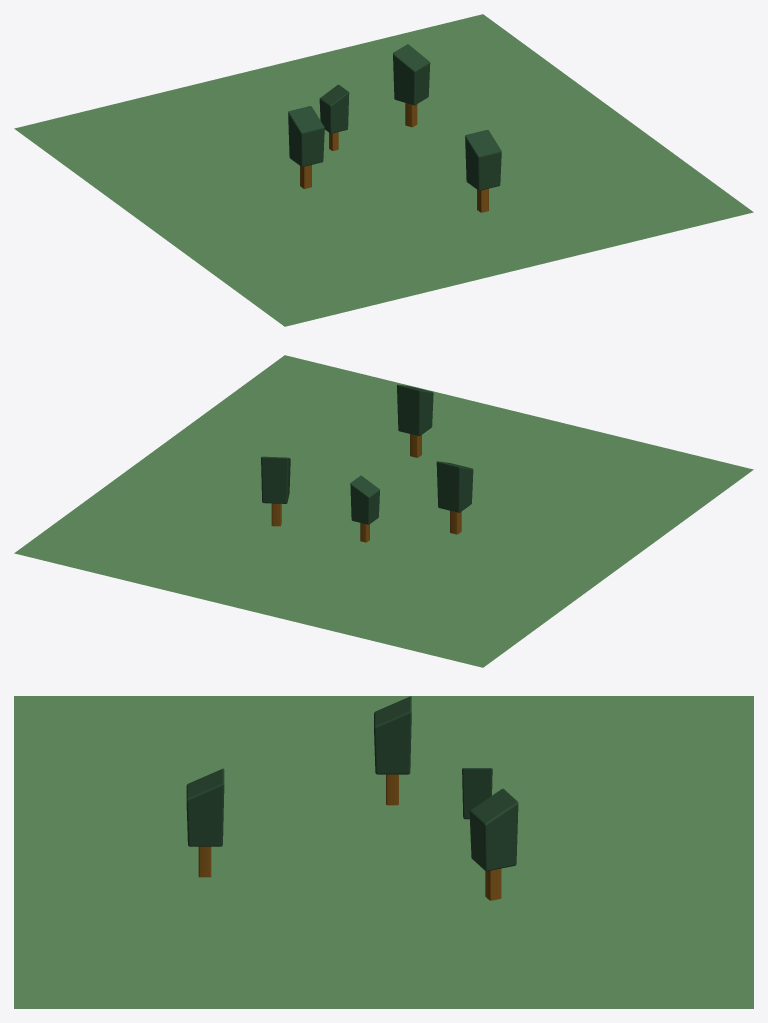
Rendered from threes_shadow.glb.
3 views of the same model, one above another, from view 1: azimuth 30°, elevation 25°; view 2: azimuth 150°, elevation 25°; view 3: azimuth 270°, elevation 25° (orthographic). The views are drawn at different scales.
Parts seen in each view (by area): view 1: Floor, Plane.002, Plane.005, Plane.007, Plane.003; view 2: Floor, Plane.005, Plane.002, Plane.007, Plane.003; view 3: Floor, Plane.007, Plane.005, Plane.002, Plane.003.
Boxes of the visible parts, box(x1,y1,x2,y2) form: Floor: box(14, 14, 753, 326); Plane.002: box(288, 106, 324, 166); Plane.005: box(465, 130, 501, 190); Plane.007: box(393, 44, 430, 105); Plane.003: box(319, 84, 349, 133); Floor: box(14, 355, 753, 667); Plane.005: box(397, 384, 433, 436); Plane.002: box(436, 461, 473, 512); Plane.007: box(261, 456, 290, 503); Plane.003: box(350, 475, 379, 524); Floor: box(14, 696, 753, 1008); Plane.007: box(469, 788, 518, 871); Plane.005: box(186, 768, 224, 846); Plane.002: box(374, 696, 411, 774); Plane.003: box(462, 768, 492, 819).
Size of the model in its own units: 34.39 by 5.1 by 34.39.
